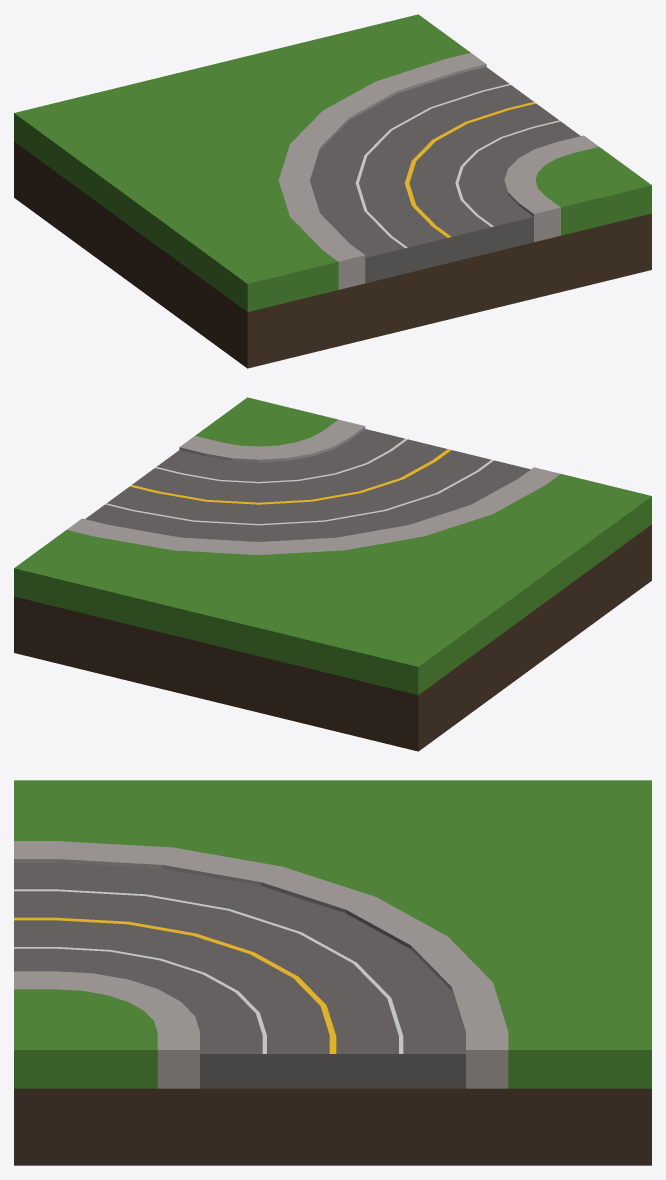
Rendered from road_curve.dae.
The picture shows the model from 3 angles, top to bottom: view 1: azimuth 30°, elevation 25°; view 2: azimuth 150°, elevation 25°; view 3: azimuth 270°, elevation 25°; orthographic projection. The views are drawn at different scales.
Parts seen in each view (by area): view 1: tile-mainroad-curve; view 2: tile-mainroad-curve; view 3: tile-mainroad-curve.
Part boxes in pixels (x1,y1,x2,y2): tile-mainroad-curve: [14, 14, 651, 368]; tile-mainroad-curve: [14, 397, 651, 751]; tile-mainroad-curve: [14, 780, 651, 1165].
Size of the model in its own units: 30 by 30 by 6.
